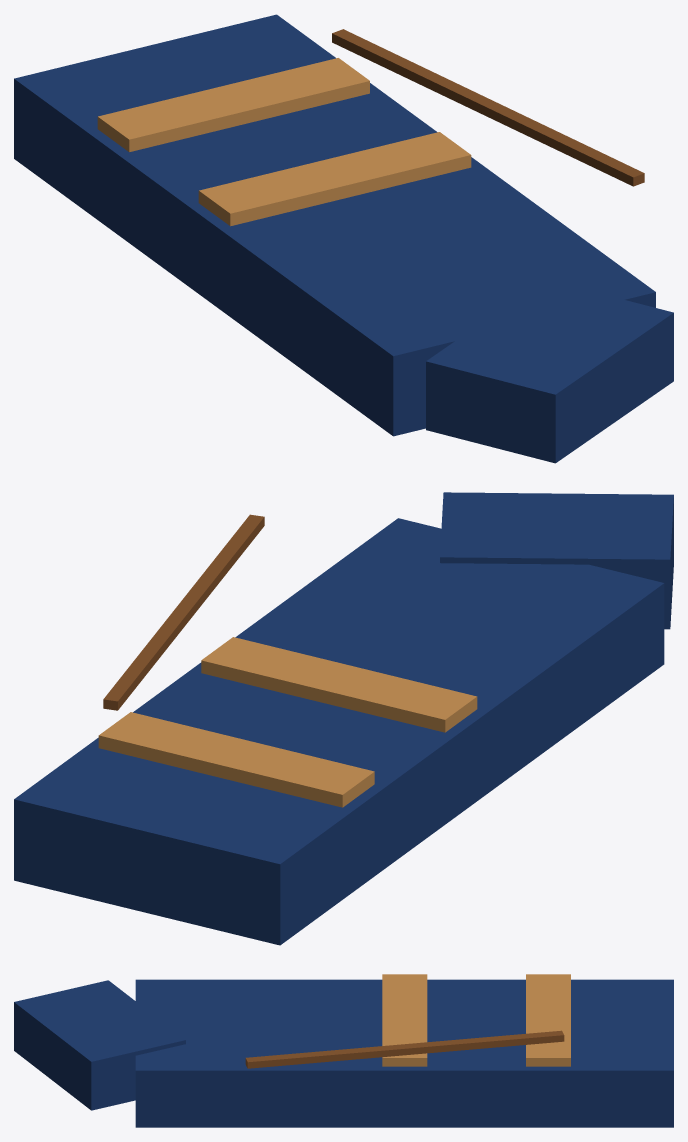
The model's file is rowboat.glb.
3 renders of one model, top to bottom at view 1: azimuth 30°, elevation 25°; view 2: azimuth 150°, elevation 25°; view 3: azimuth 270°, elevation 25°, orthographic. The views are drawn at different scales.
Visible parts, largest first — view 1: rowboat; view 2: rowboat; view 3: rowboat.
Boxes of the visible parts, left/top/right/bottom form: rowboat: left=14, top=14, right=673, bottom=463; rowboat: left=14, top=492, right=673, bottom=945; rowboat: left=14, top=974, right=673, bottom=1127.
Bounding box in the file's own units: 1.51 × 0.545 × 3.68.
